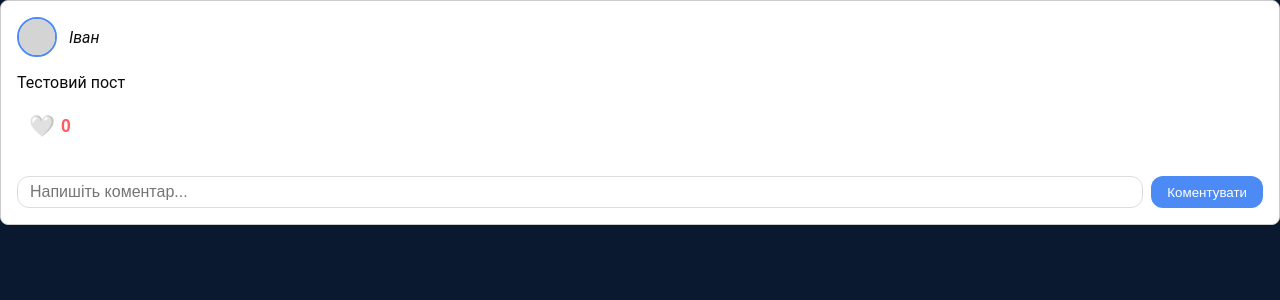
Test: Post component › додає коментар
The width and height of the screenshot is (1280, 300).
Type "Новий коментар" into the field with placeholder "Напишіть коментар..." at (580, 192), box top-left (17, 176), bottom-right (1143, 208)
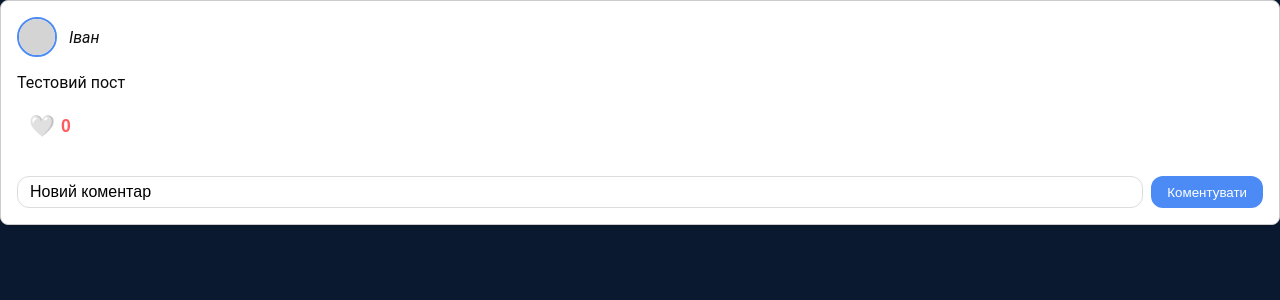
Click the button "Коментувати" at (1207, 192), box top-left (1151, 176), bottom-right (1263, 208)
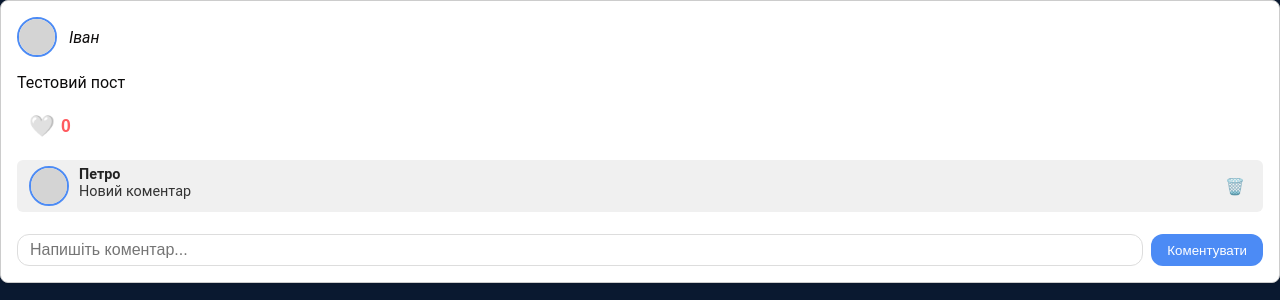
Expected: the text "Новий коментар" is shown, top-left (79, 183), bottom-right (191, 200)
